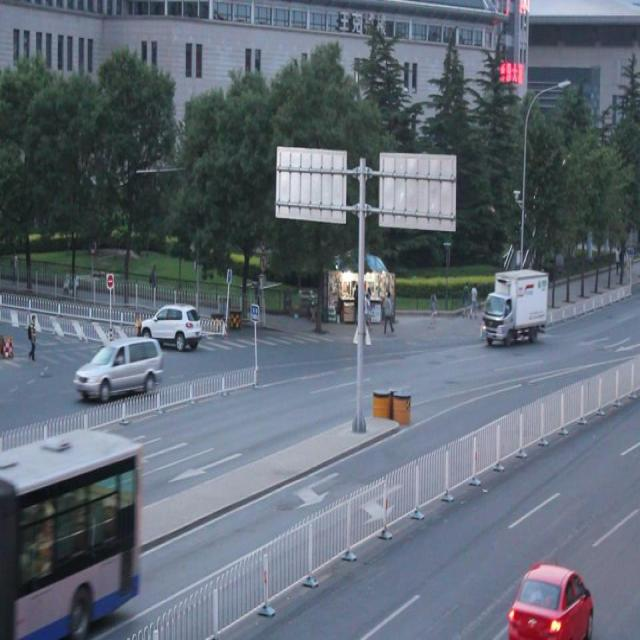bus: (481, 266, 546, 350)
car: (508, 558, 591, 640), (77, 334, 164, 398), (138, 302, 201, 350)
van: (0, 422, 140, 632)
